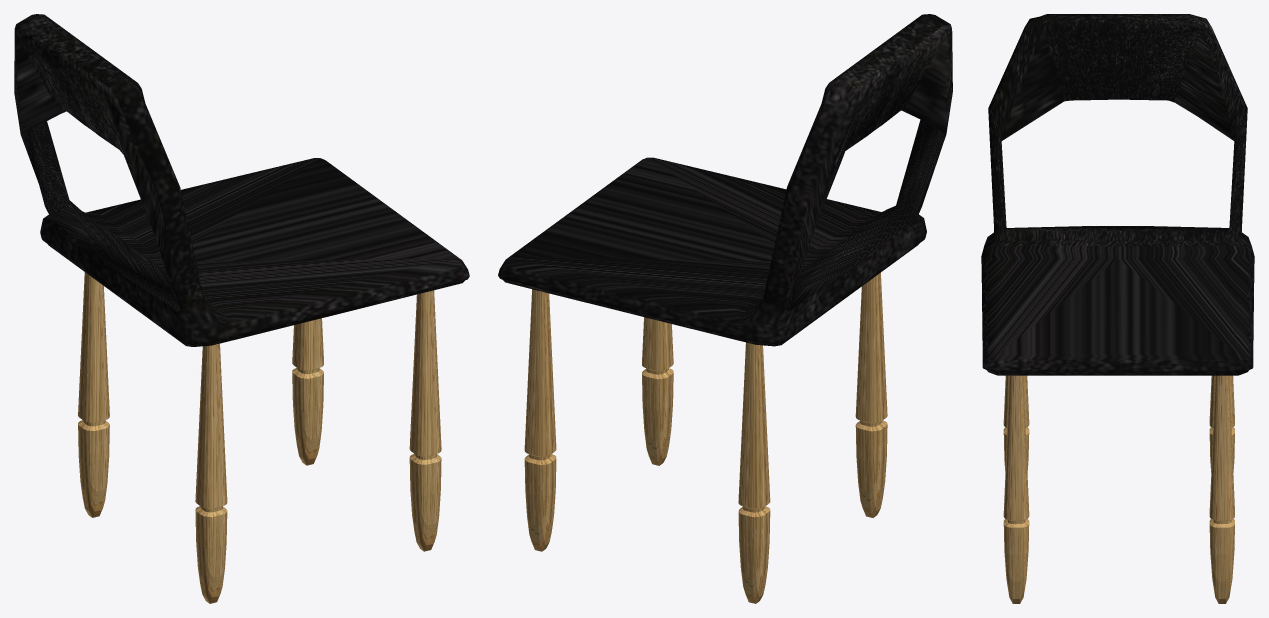
File: Office Chair.fbx
3 views of the same model, side by side, from view 1: azimuth 30°, elevation 25°; view 2: azimuth 150°, elevation 25°; view 3: azimuth 270°, elevation 25° (orthographic). The views are drawn at different scales.
Parts seen in each view (by area): view 1: Chair 2; view 2: Chair 2; view 3: Chair 2.
Boxes of the visible parts, x1,y1,x2,y2 form: Chair 2: (14,14,469,603); Chair 2: (498,14,952,603); Chair 2: (981,14,1254,603).
Size of the model in its own units: 53.02 by 79.72 by 42.63.
Materials: 5 (5 with a texture image).
